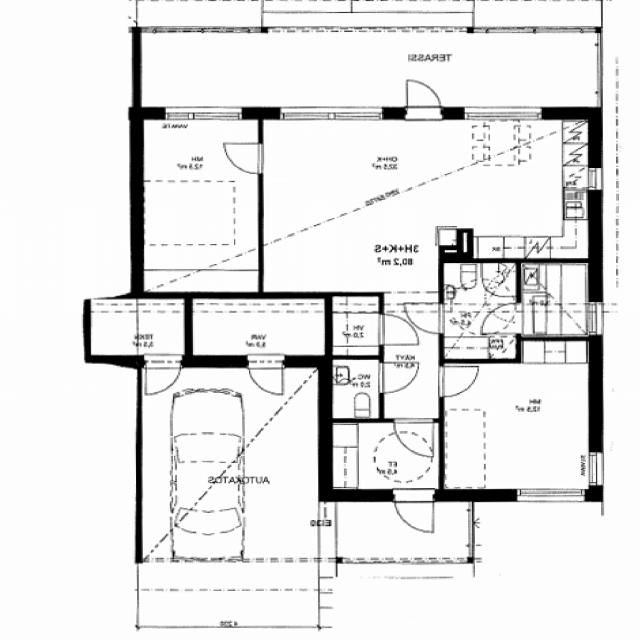door: (395, 489, 434, 535), (146, 356, 182, 398), (394, 419, 433, 456), (249, 356, 283, 397), (408, 78, 440, 119), (379, 314, 419, 345), (379, 362, 419, 393), (224, 144, 264, 174), (405, 303, 444, 333), (482, 304, 521, 334), (440, 366, 478, 396)
